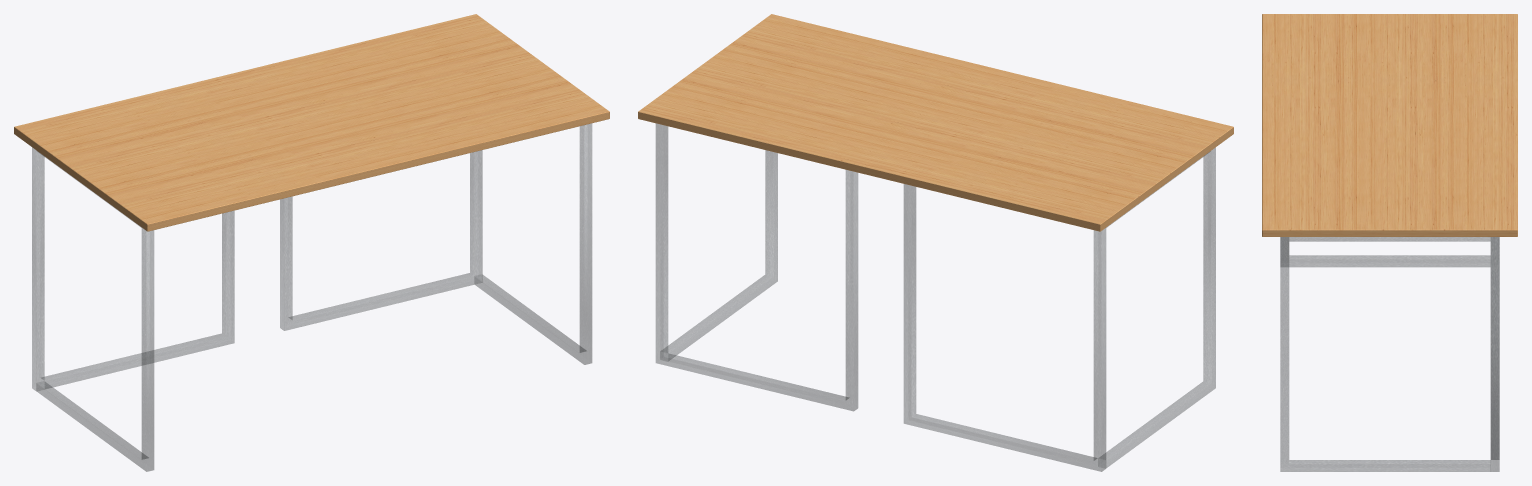
Rendered from school-desk.glb.
The picture shows the model from 3 angles, left to right: view 1: azimuth 30°, elevation 25°; view 2: azimuth 150°, elevation 25°; view 3: azimuth 270°, elevation 25°; orthographic projection. The views are drawn at different scales.
Parts seen in each view (by area): view 1: Table Bord N090119; view 2: Table Bord N090119; view 3: Table Bord N090119.
Part boxes in pixels (bbox=[...]): Table Bord N090119: bbox=[14, 14, 609, 471]; Table Bord N090119: bbox=[638, 14, 1233, 471]; Table Bord N090119: bbox=[1262, 14, 1517, 471].
Size of the model in its own units: 140 by 74.24 by 70.
Materials: 2 (2 with a texture image).
